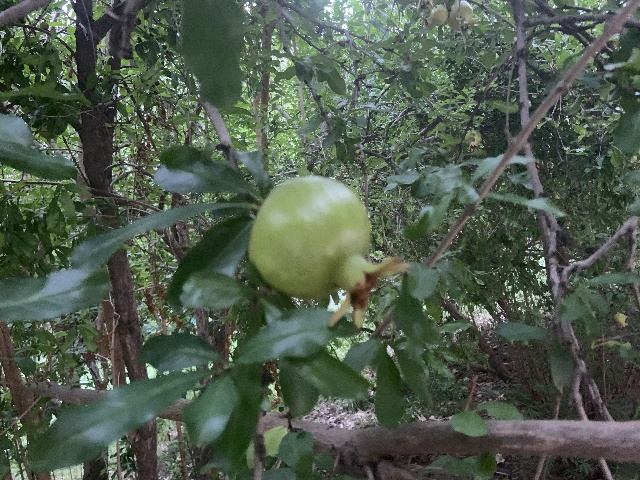mid-growth: (249, 175, 411, 329), (447, 0, 481, 30), (424, 4, 448, 27), (613, 313, 628, 327)
